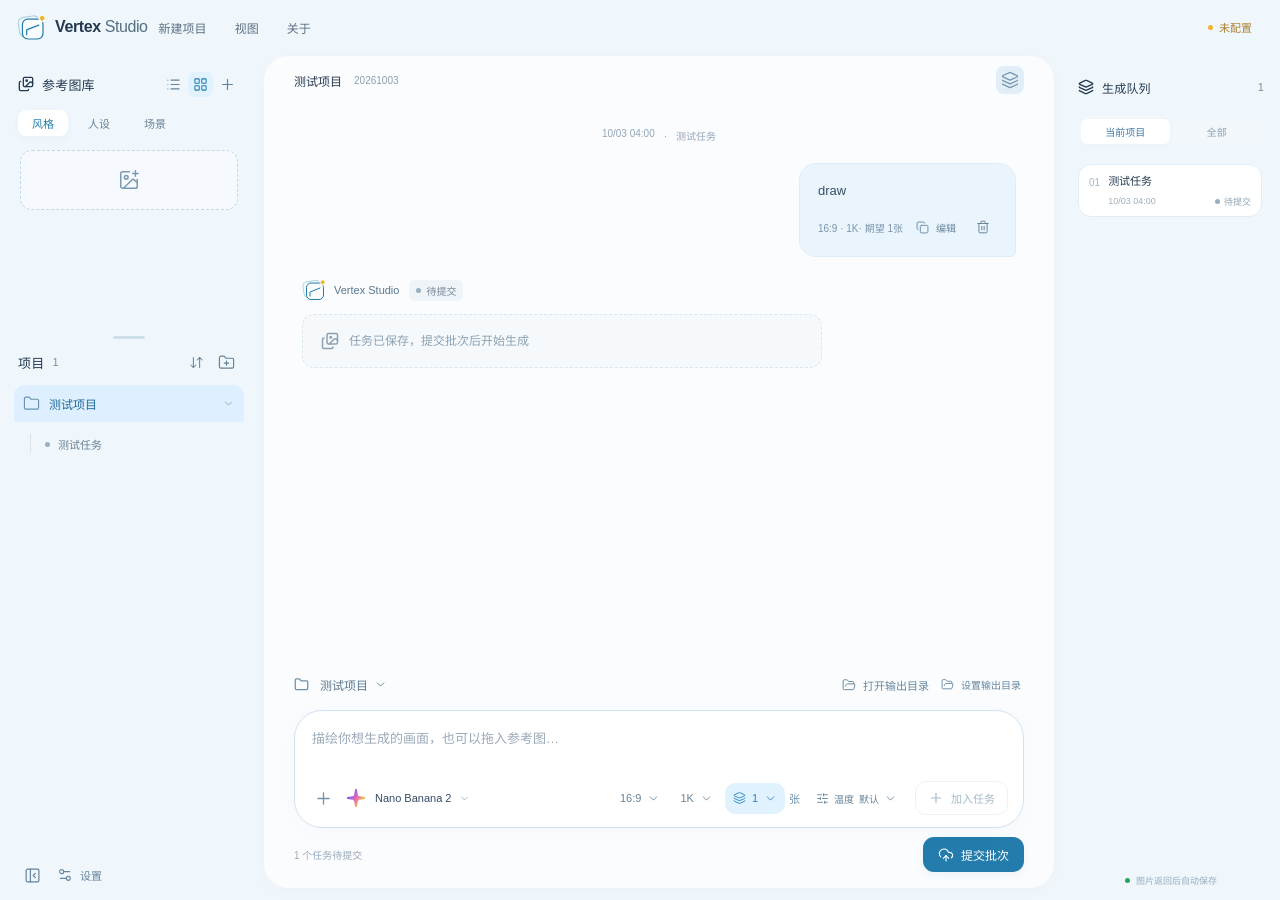
Test case: 后台凭证失败解除提交状态并允许取消本地批次
Click the button "提交批次": (974, 854) [923, 837, 1024, 872]
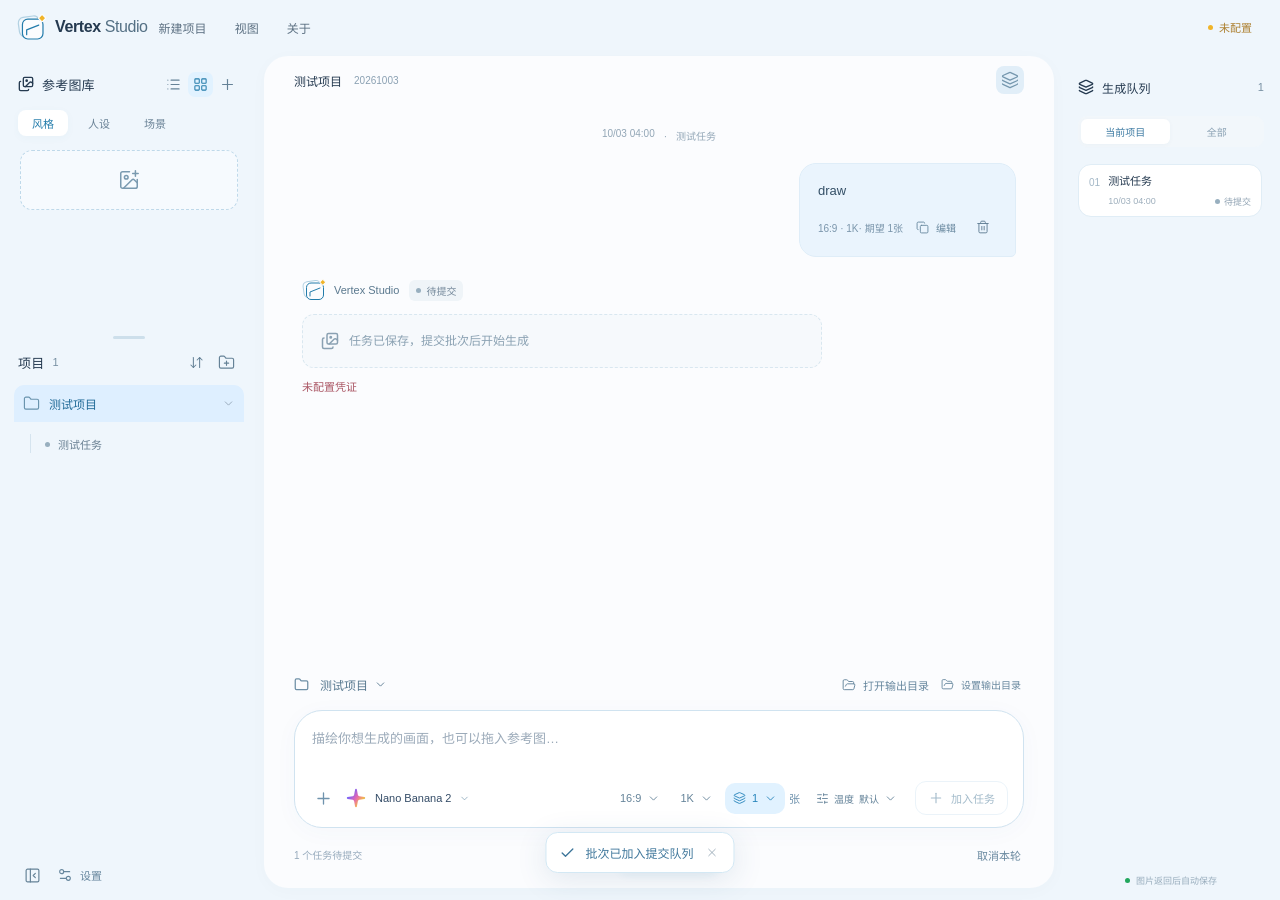
Result: the text "未配置凭证" is shown at [302, 381, 357, 393]
Click the button "取消本轮": (999, 854) [974, 842, 1024, 868]
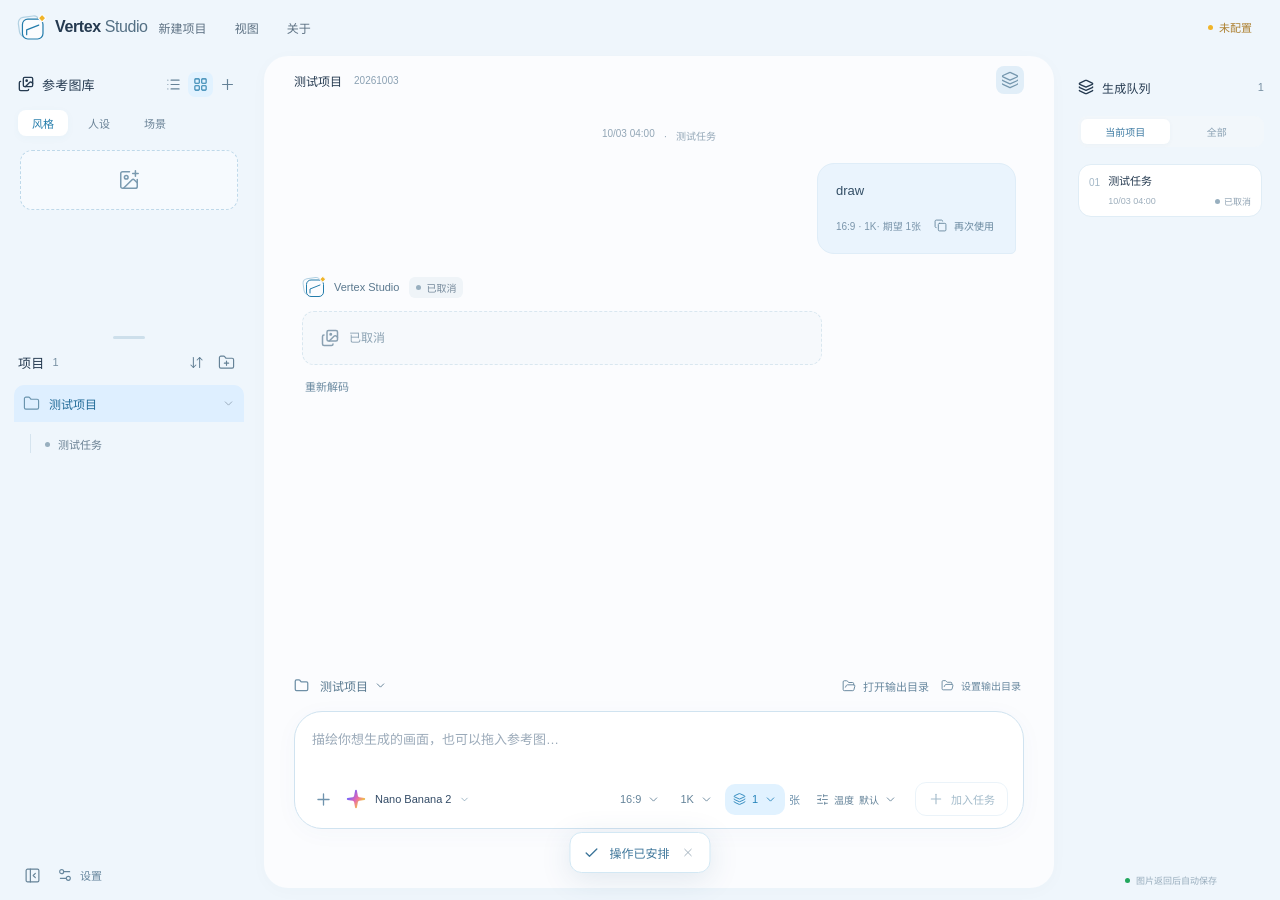
Result: the text "已取消" next to "Vertex Studio" is shown at [426, 282, 456, 294]
